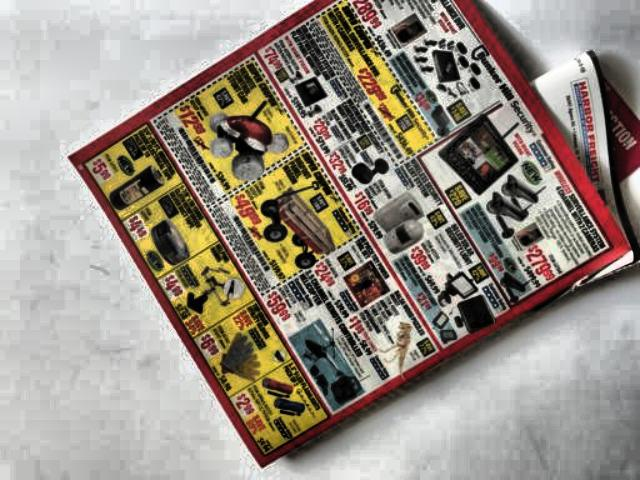Paper: (72, 0, 640, 471)
